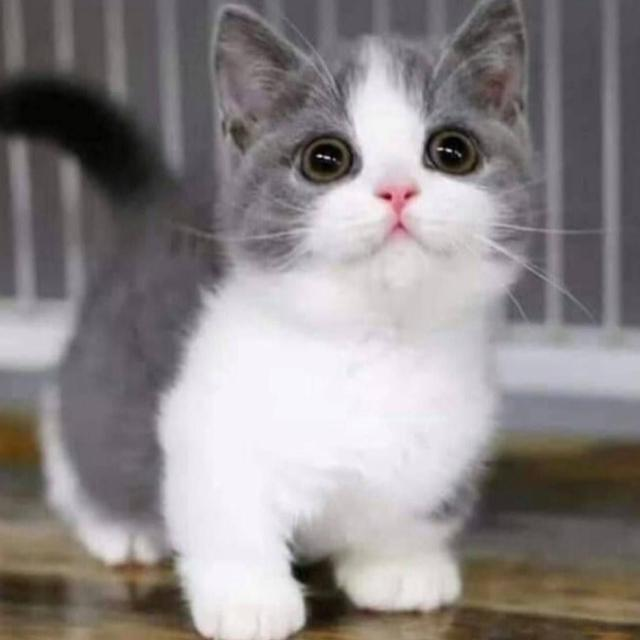Munchkin: (0, 0, 542, 640)
